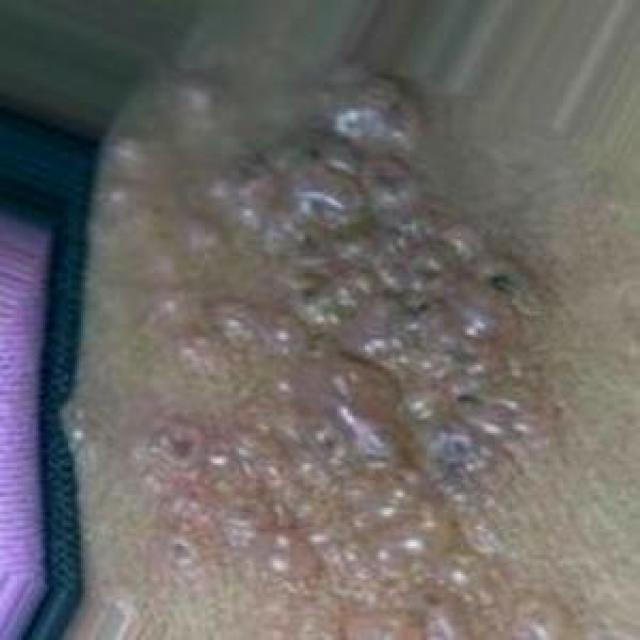Shingles: (97, 58, 572, 640)
